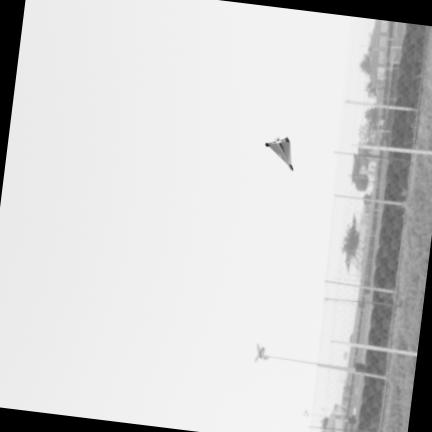Shahed: (265, 136, 292, 168)
